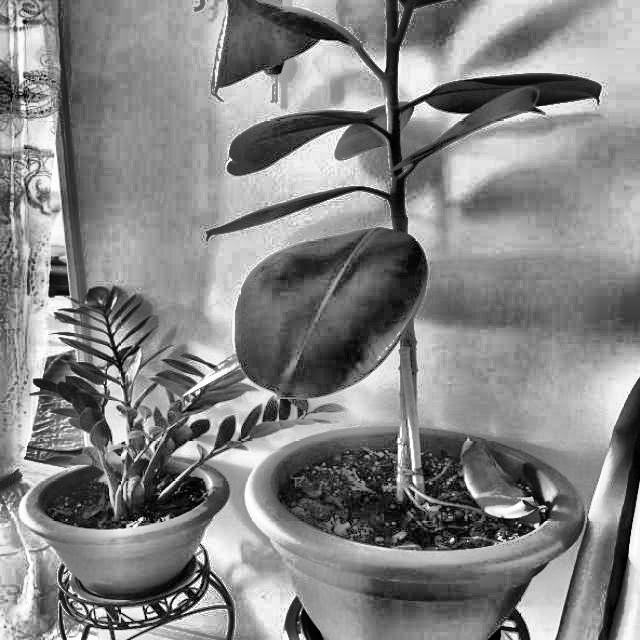plants: (244, 3, 596, 640), (42, 298, 242, 598)
